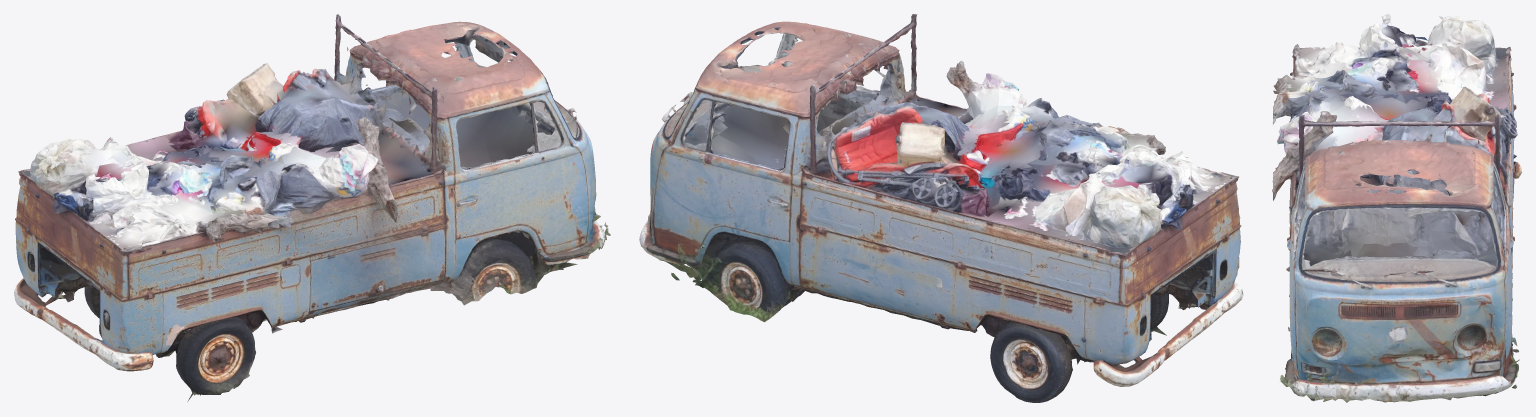
Rendered from sf-old-decayed-van-wreck-with-garbage-4bdaf5.glb.
3 renders of one model, left to right at view 1: azimuth 30°, elevation 25°; view 2: azimuth 150°, elevation 25°; view 3: azimuth 270°, elevation 25°, orthographic. The views are drawn at different scales.
Parts seen in each view (by area): view 1: van_decayed_van_decayed_u1_v1_0; view 2: van_decayed_van_decayed_u1_v1_0; view 3: van_decayed_van_decayed_u1_v1_0.
Part boxes in pixels (x1=…): van_decayed_van_decayed_u1_v1_0: x1=14, y1=14, x2=610, y2=401; van_decayed_van_decayed_u1_v1_0: x1=639, y1=14, x2=1243, y2=402; van_decayed_van_decayed_u1_v1_0: x1=1272, y1=14, x2=1521, y2=402.
Size of the model in its own units: 4.54 by 2.2 by 1.92.
Materials: 1 (1 with a texture image).
